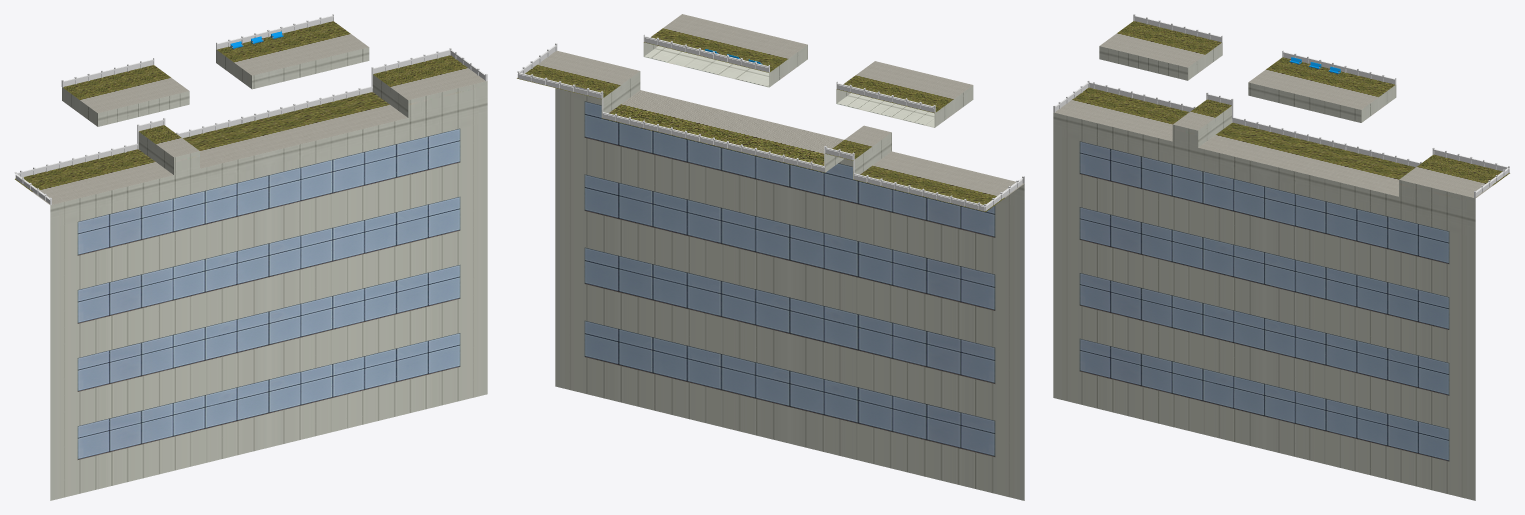
Rendered from stage1.fbx.
3 views of the same model, side by side, from view 1: azimuth 30°, elevation 25°; view 2: azimuth 150°, elevation 25°; view 3: azimuth 330°, elevation 25° (orthographic). The views are drawn at different scales.
Parts seen in each view (by area): view 1: stage, polymsh; view 2: stage, polymsh; view 3: stage, polymsh.
Boxes of the visible parts, bbox=[...] form: stage: bbox=[15, 21, 487, 500]; polymsh: bbox=[14, 14, 487, 205]; stage: bbox=[517, 14, 1024, 500]; polymsh: bbox=[517, 34, 1024, 211]; stage: bbox=[1053, 21, 1509, 500]; polymsh: bbox=[1053, 14, 1509, 198].
Size of the model in its own units: 302 by 253 by 43.2.
